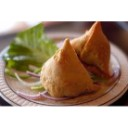samosa: (41, 38, 96, 92), (73, 23, 115, 75)
